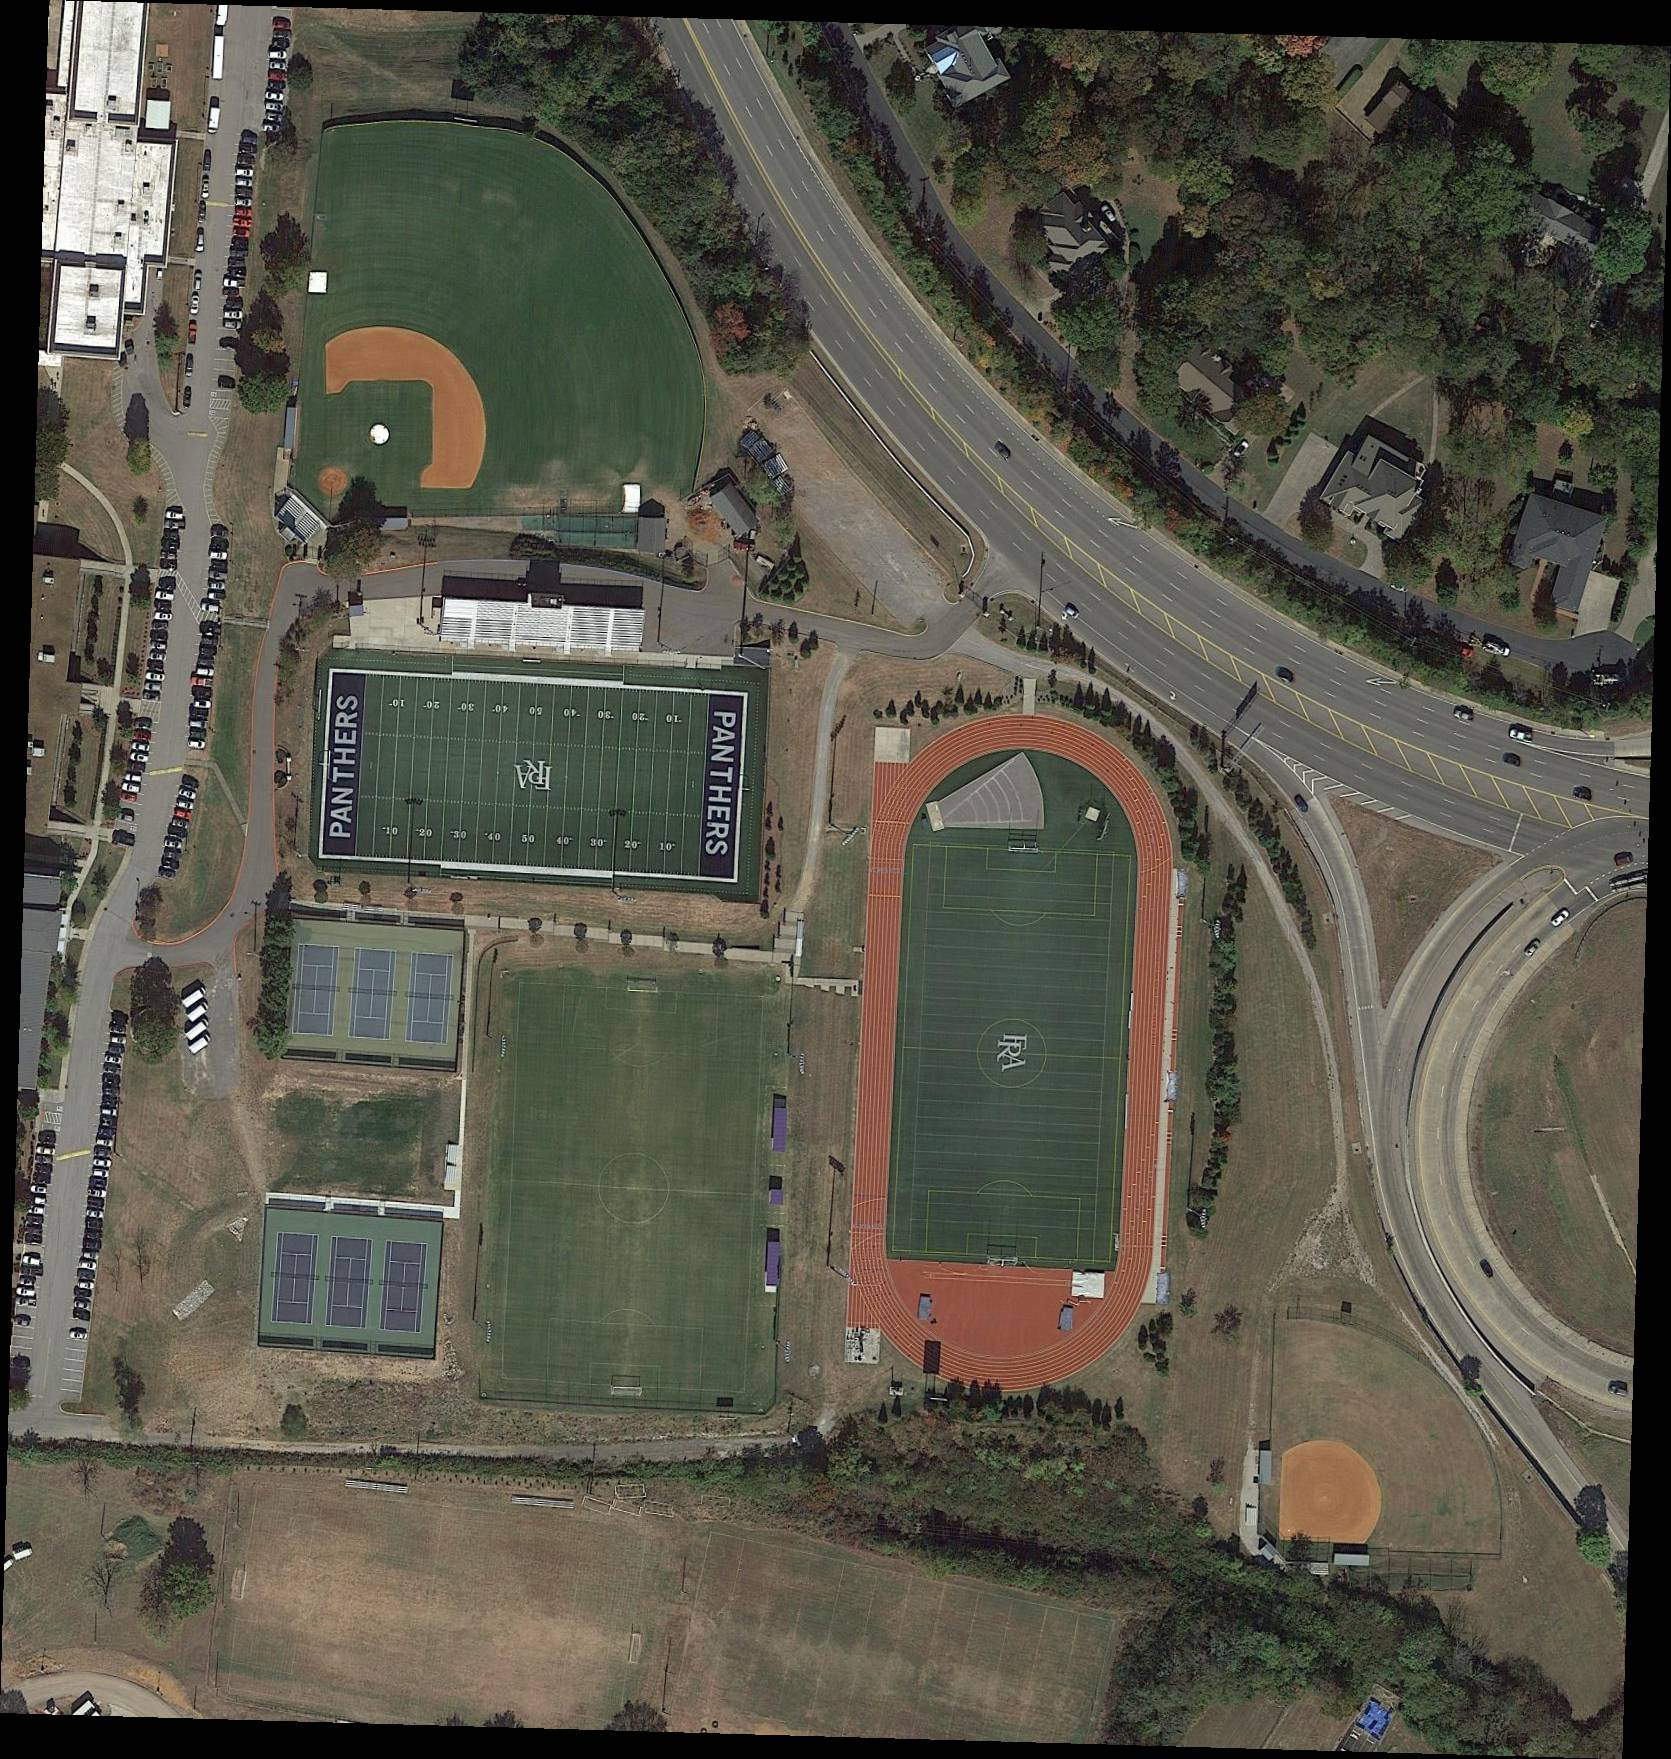baseball diamond: (327, 327, 488, 485), (1282, 1440, 1379, 1541)
ground track field: (839, 715, 1179, 1398)
soccer ball field: (503, 978, 762, 1402), (894, 840, 1129, 1267), (316, 669, 748, 881)
tennis court: (292, 942, 342, 1037), (347, 949, 397, 1041), (272, 1233, 320, 1326), (327, 1236, 375, 1329), (407, 952, 455, 1044), (382, 1241, 429, 1335)
